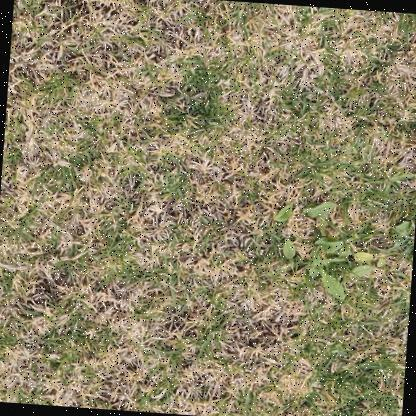Weeds: (270, 198, 389, 302)
